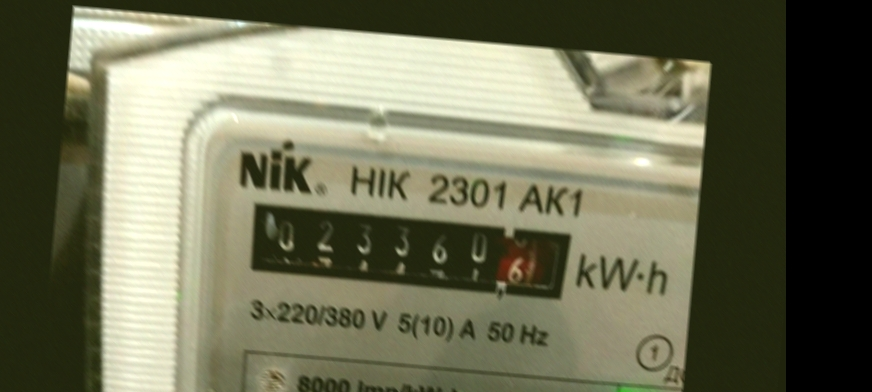0: (272, 215, 297, 252), (464, 228, 489, 265)
2: (312, 216, 336, 253)
3: (351, 220, 374, 256), (390, 222, 411, 258)
6: (426, 228, 449, 264), (503, 250, 524, 285)
screen: (231, 189, 590, 318)
